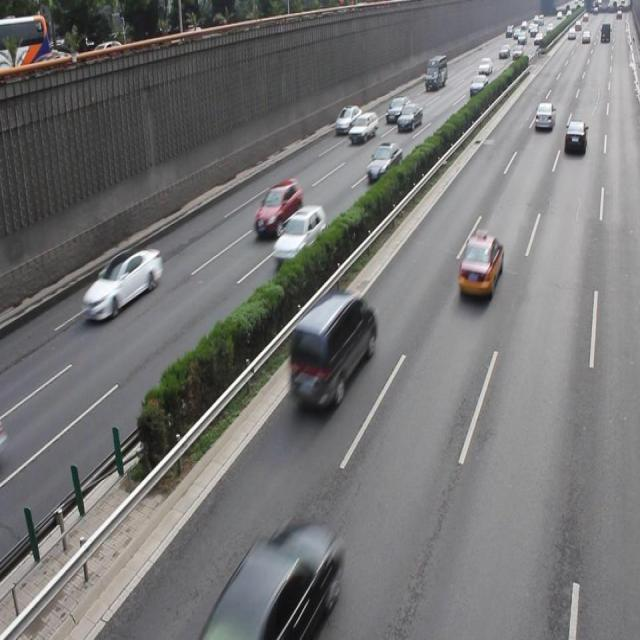car: (206, 519, 341, 640), (82, 244, 164, 320), (272, 205, 326, 264), (457, 233, 502, 299), (254, 176, 301, 238), (366, 142, 402, 183)
truck: (288, 290, 377, 409)
